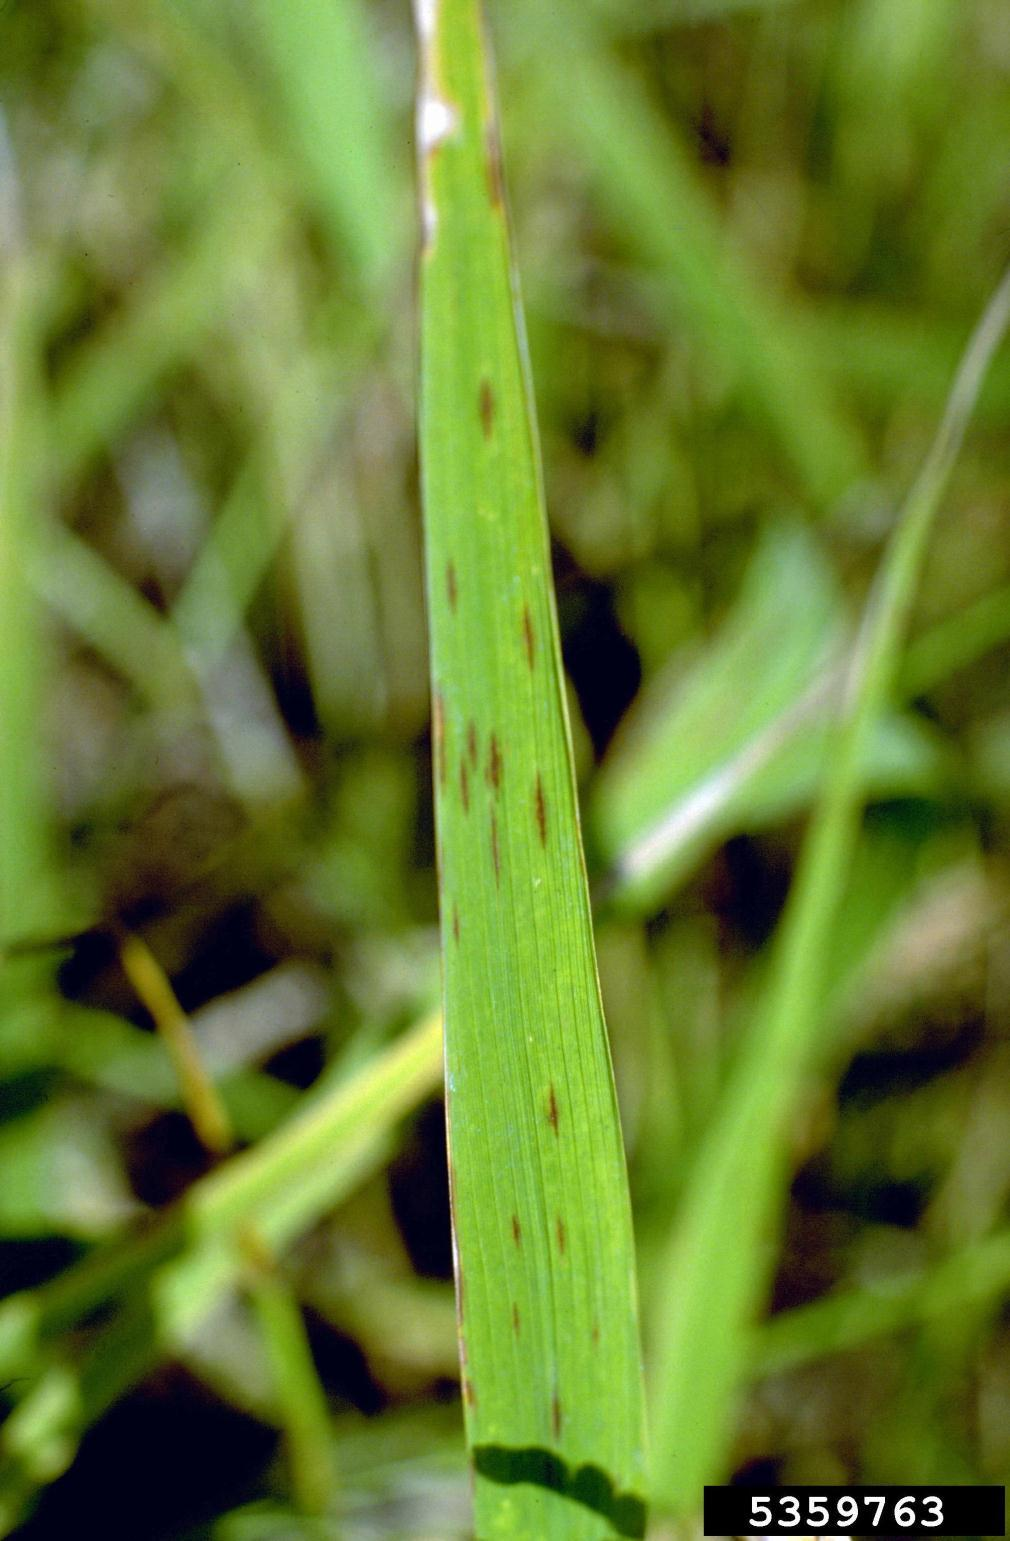Bercak Coklat: (526, 767, 556, 857), (468, 377, 500, 448), (513, 603, 546, 673), (480, 730, 507, 799), (537, 1078, 567, 1139), (438, 558, 466, 621), (543, 1387, 570, 1446), (546, 1213, 575, 1258), (459, 715, 481, 773), (504, 1214, 531, 1254)
